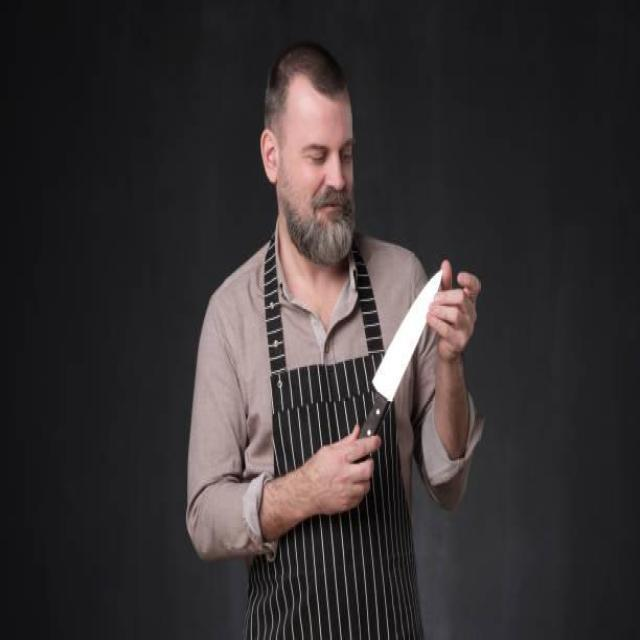faca: (330, 266, 446, 534)
